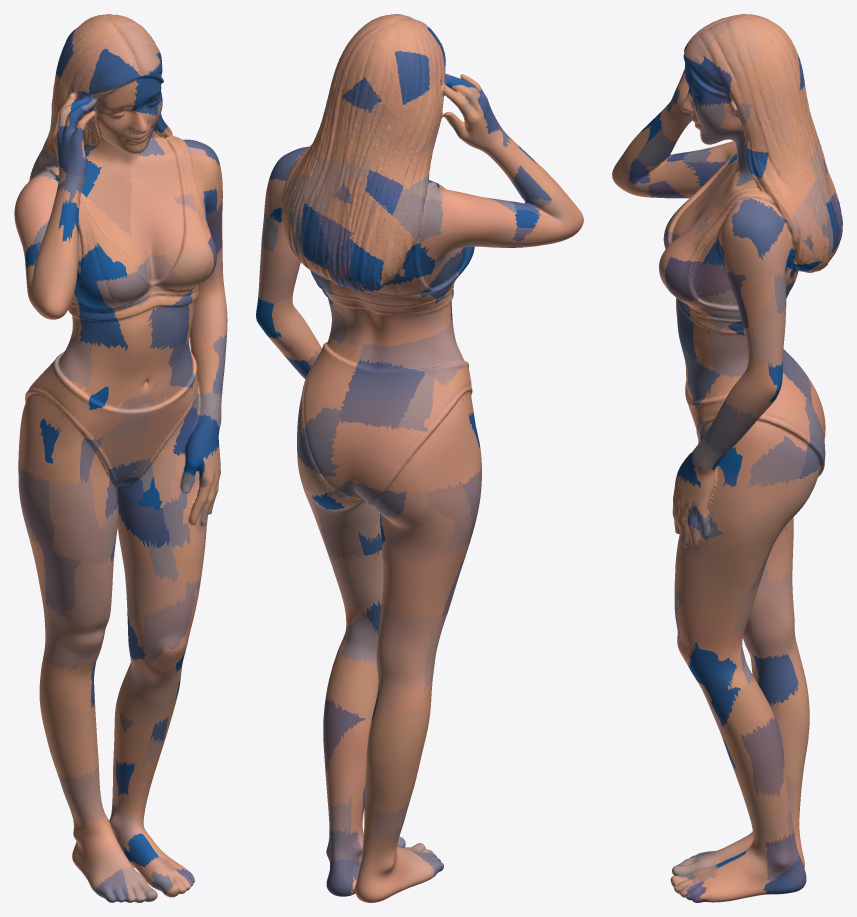
Rendered from BlueBikini.fbx.
3 views of the same model, side by side, from view 1: azimuth 30°, elevation 25°; view 2: azimuth 150°, elevation 25°; view 3: azimuth 270°, elevation 25° (orthographic).
Visible parts, largest first — view 1: mesh_0; view 2: mesh_0; view 3: mesh_0.
Part boxes in pixels (left/top/right/bottom): mesh_0: left=14, top=14, right=227, bottom=902; mesh_0: left=256, top=14, right=583, bottom=902; mesh_0: left=612, top=14, right=842, bottom=902.
Size of the model in its own units: 0.5805 by 1.9 by 0.4633.
1 material, 1 textured.
